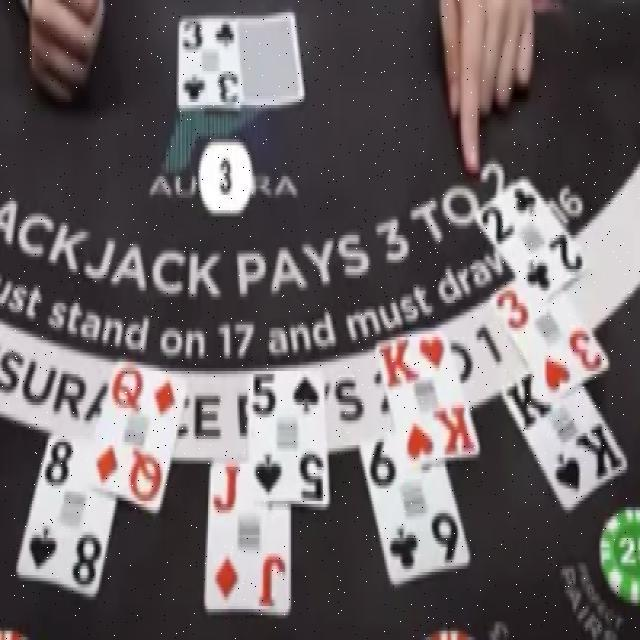Card-2: (475, 174, 591, 307)
Card-3: (489, 278, 610, 399), (178, 13, 240, 105)
Card-5: (249, 367, 328, 508)
Card-6: (359, 431, 470, 585)
Card-8: (16, 426, 117, 596)
Card-J: (205, 461, 291, 615)
Card-K: (501, 365, 628, 513), (376, 326, 479, 470)
Card-Q: (90, 358, 189, 513)
